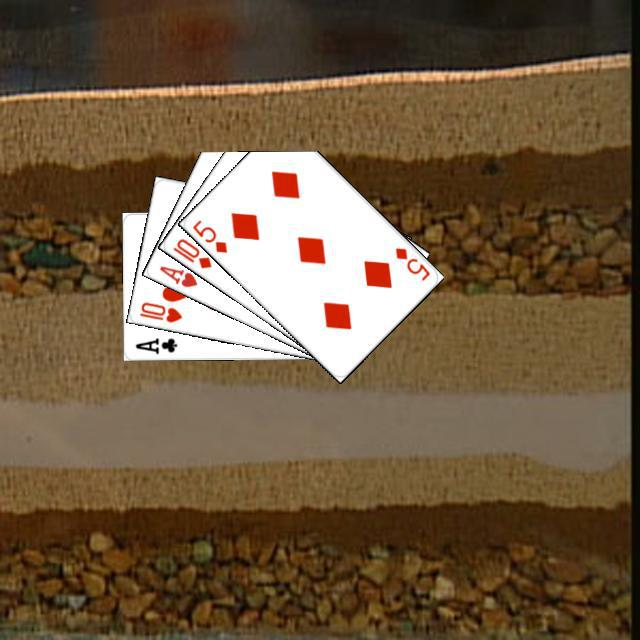10d: (168, 233, 213, 270)
10h: (134, 297, 184, 324)
5d: (390, 242, 432, 283), (188, 215, 229, 255)
Ac: (130, 333, 179, 356)
Ah: (154, 261, 199, 289)
